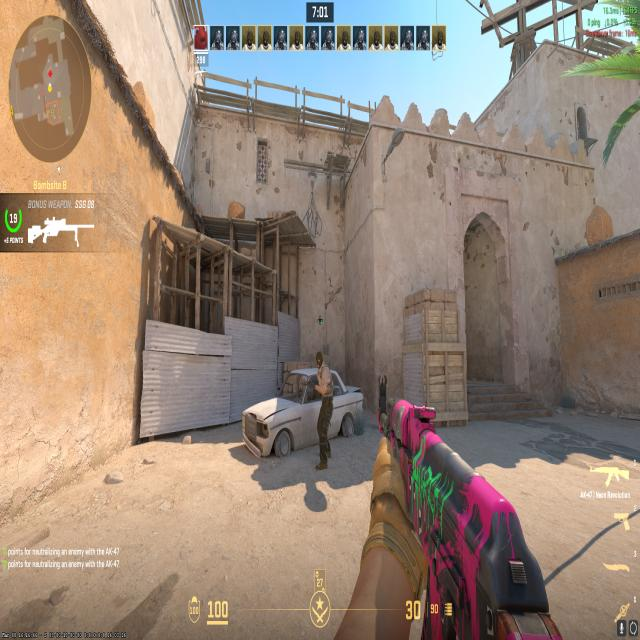t: (308, 348, 336, 475)
